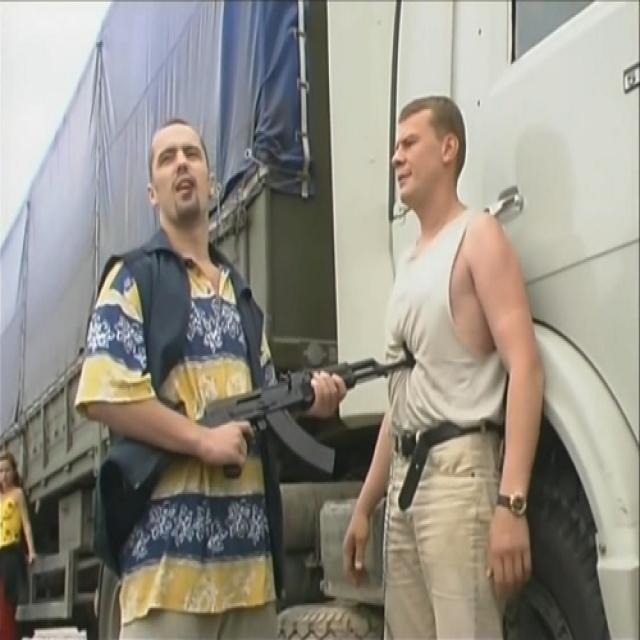rifle: (205, 337, 419, 482)
